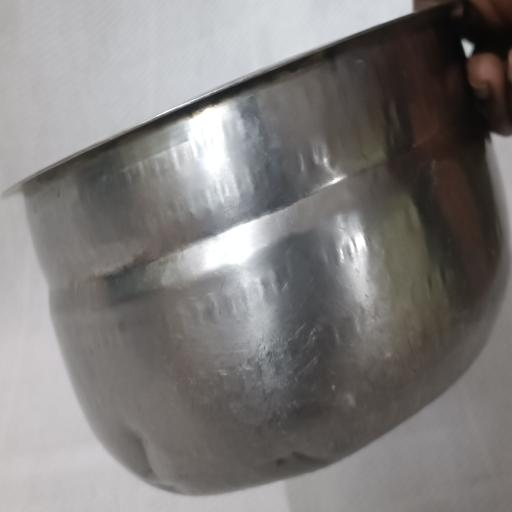vessel: (20, 8, 508, 493)
